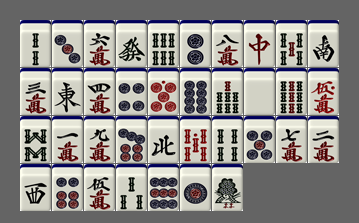0m: (308, 68, 339, 115)
0p: (148, 68, 179, 115)
0s: (180, 116, 211, 163)
1m: (52, 116, 83, 163)
1p: (180, 164, 211, 211)
1s: (212, 164, 243, 211)
1z: (52, 68, 83, 115)
2m: (308, 116, 339, 163)
2p: (180, 20, 211, 67)
2s: (20, 20, 51, 67)
2z: (308, 20, 339, 67)
3m: (20, 68, 51, 115)
3p: (52, 20, 83, 67)
3s: (116, 164, 147, 211)
3z: (20, 164, 51, 211)
4m: (84, 68, 115, 115)
4p: (116, 68, 147, 115)
4s: (212, 116, 243, 163)
4z: (148, 116, 179, 163)
5m: (84, 164, 115, 211)
5p: (244, 116, 275, 163)
5s: (276, 20, 307, 67)
5z: (244, 68, 275, 115)
6m: (84, 20, 115, 67)
6p: (52, 164, 83, 211)
6s: (148, 20, 179, 67)
6z: (116, 20, 147, 67)
7m: (276, 116, 307, 163)
7p: (116, 116, 147, 163)
7s: (212, 68, 243, 115)
7z: (244, 20, 275, 67)
8m: (212, 20, 243, 67)
8p: (180, 68, 211, 115)
8s: (20, 116, 51, 163)
9m: (84, 116, 115, 163)
9p: (148, 164, 179, 211)
9s: (276, 68, 307, 115)
